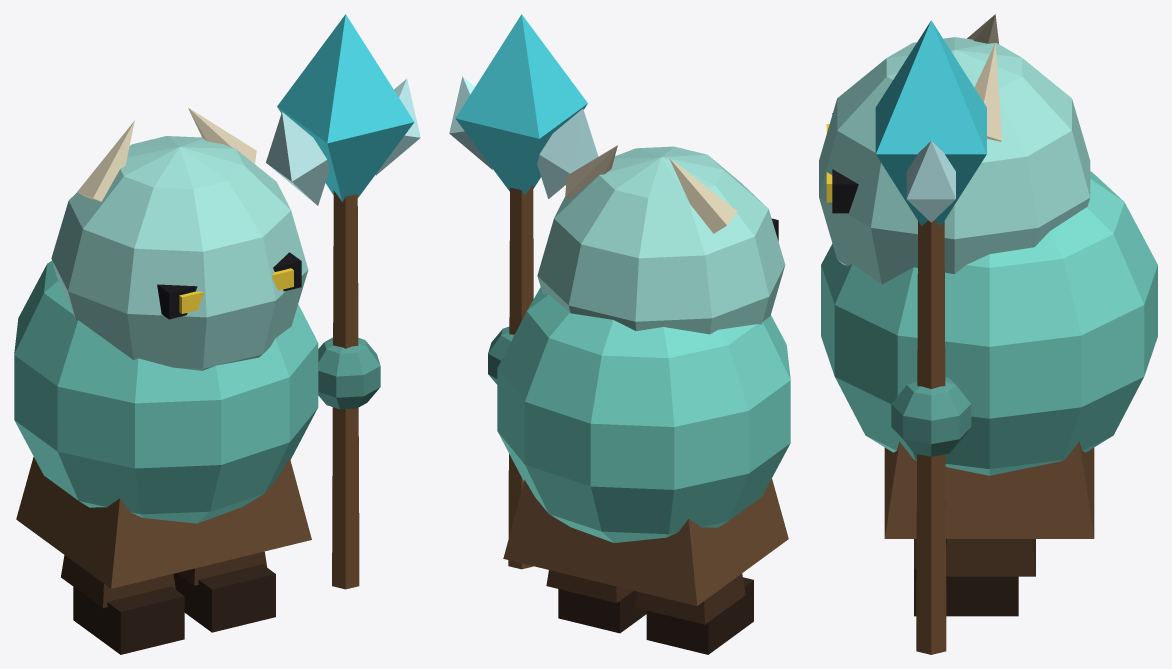
The model's file is enemy_frostweaver.glb.
3 renders of one model, left to right at view 1: azimuth 30°, elevation 25°; view 2: azimuth 150°, elevation 25°; view 3: azimuth 270°, elevation 25°, orthographic. The views are drawn at different scales.
Parts seen in each view (by area): view 1: enemy_frostweaver; view 2: enemy_frostweaver; view 3: enemy_frostweaver.
Boxes of the visible parts, x1,y1,x2,y2 form: enemy_frostweaver: (14,14,420,654); enemy_frostweaver: (449,14,790,654); enemy_frostweaver: (819,14,1157,654).
Bounding box in the file's own units: 0.7605 × 1.21 × 0.5825.
